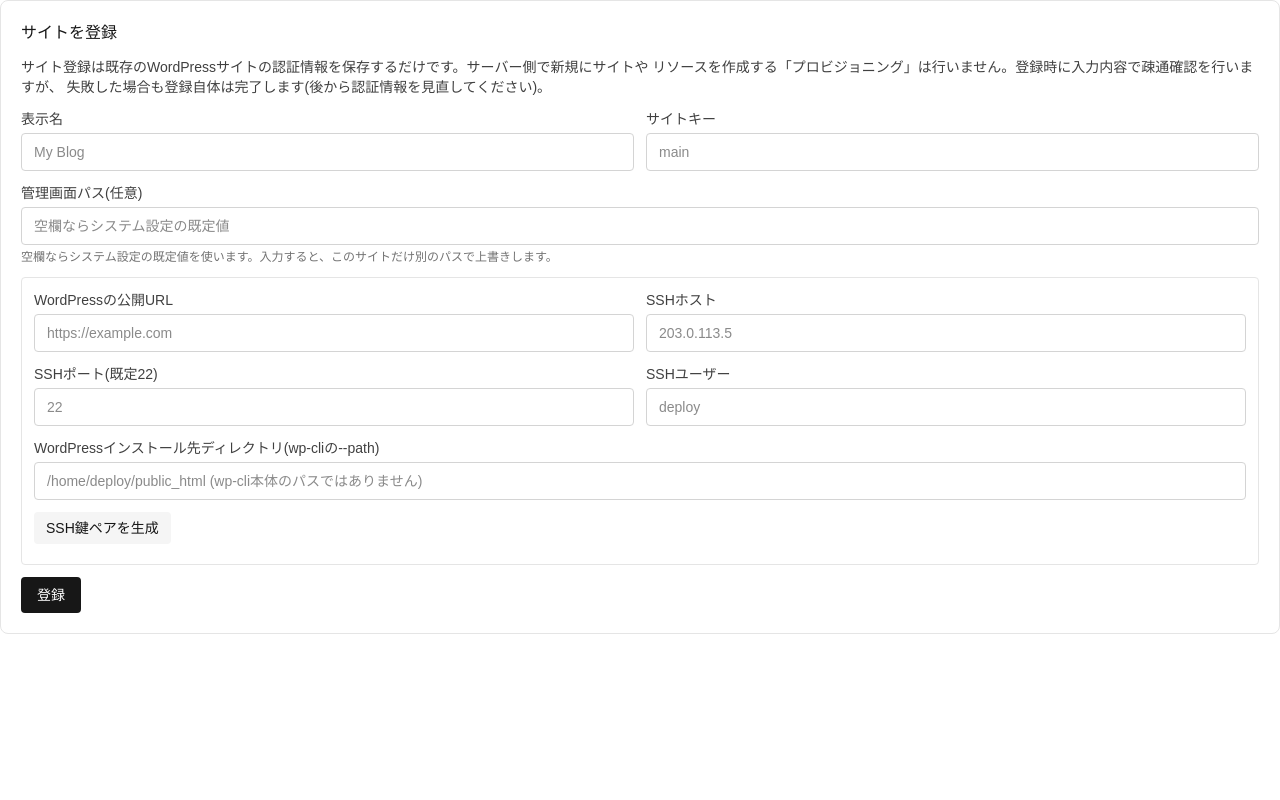
it: SiteForm の登録操作 › 鍵ペアの生成に失敗したら理由を示し、公開鍵は出さない
Click the button "SSH鍵ペアを生成" at coordinates (102, 528), box [34,512,171,544]
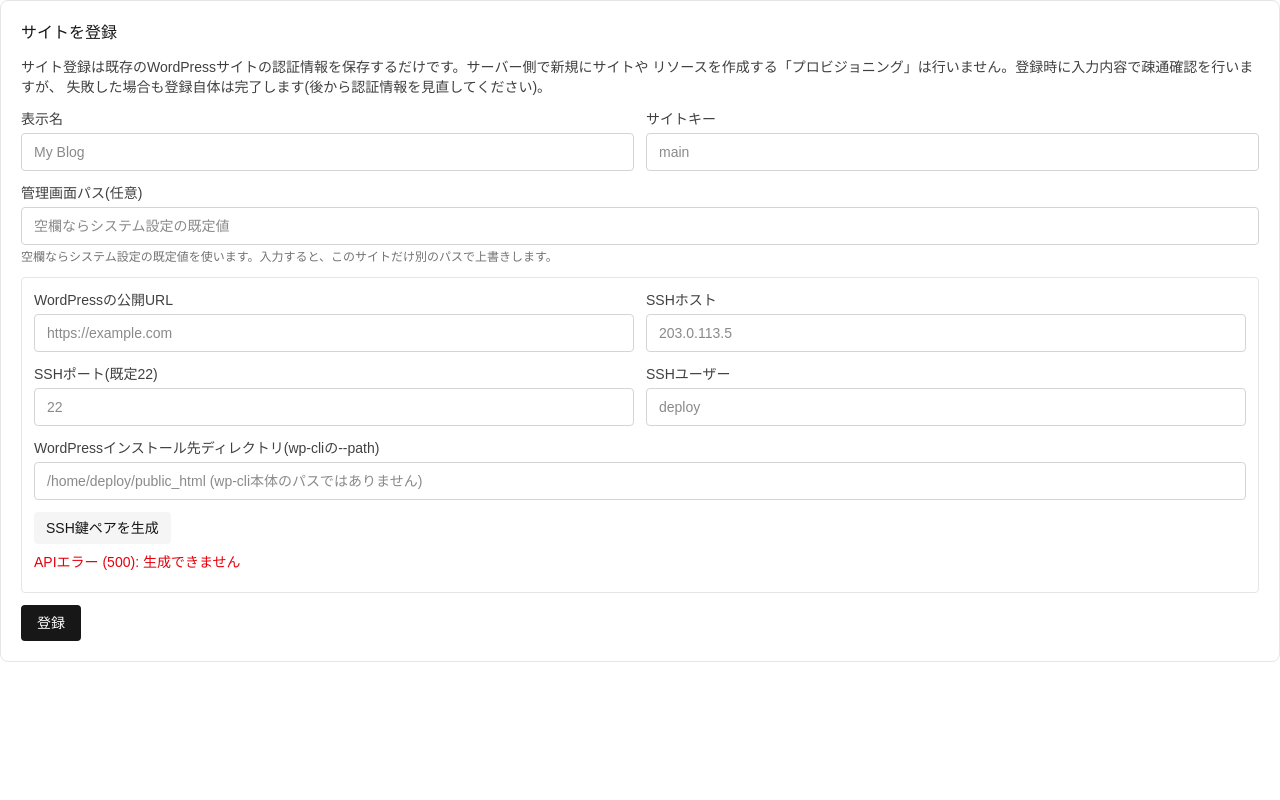
Check: the text "APIエラー (500): 生成できません" is shown, box [34,554,240,570]
